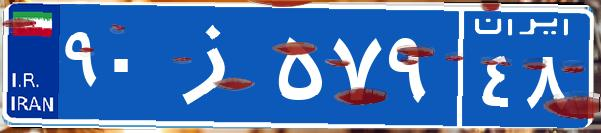0: (110, 28, 158, 105)
4: (475, 38, 525, 113)
5: (273, 28, 330, 110)
7: (330, 28, 385, 110)
8: (525, 38, 570, 115)
9: (385, 28, 445, 110), (57, 26, 110, 107)
ز: (158, 15, 273, 115)
